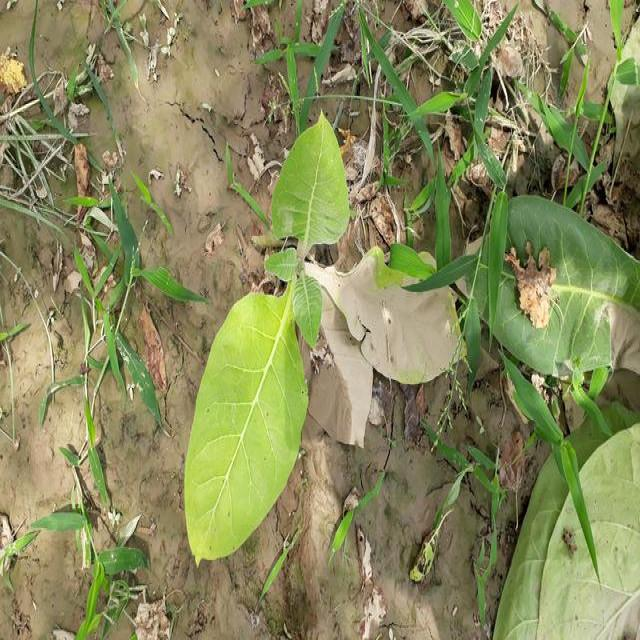crop: (166, 110, 464, 554), (482, 197, 639, 640)
